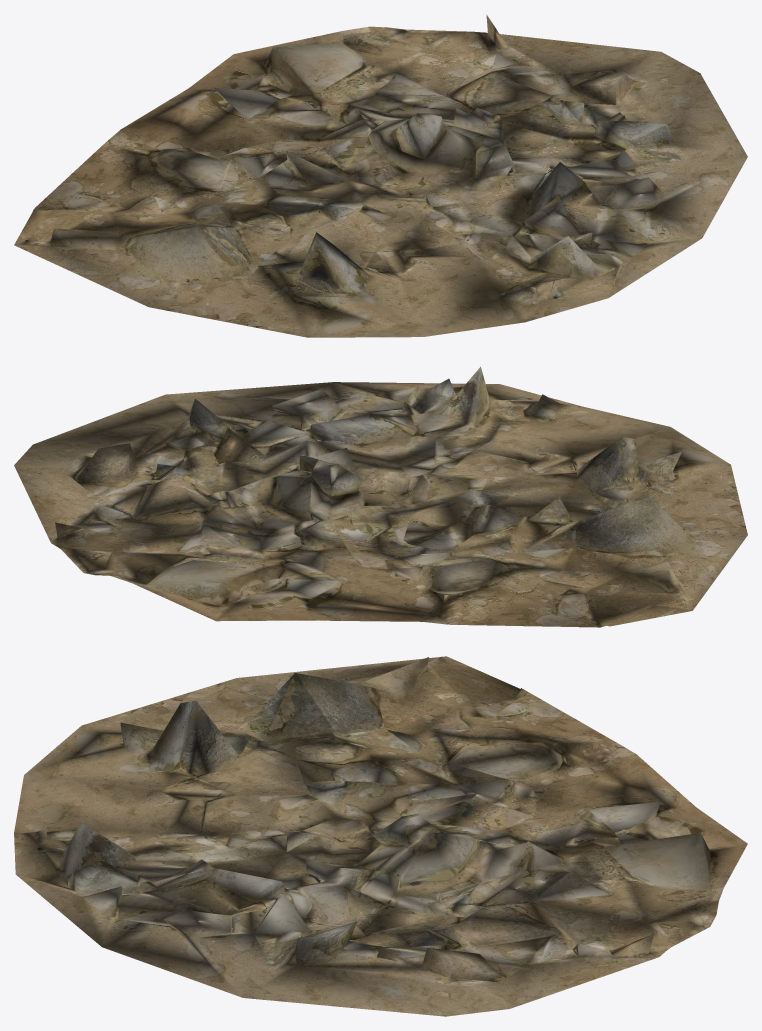
Rendered from sand_rocks_small_01.glb.
The picture shows the model from 3 angles, top to bottom: view 1: azimuth 30°, elevation 25°; view 2: azimuth 150°, elevation 25°; view 3: azimuth 270°, elevation 25°; orthographic projection. The views are drawn at different scales.
Parts seen in each view (by area): view 1: sand_rocks_small_01_LOD0; view 2: sand_rocks_small_01_LOD0; view 3: sand_rocks_small_01_LOD0.
Part boxes in pixels (<box>): sand_rocks_small_01_LOD0: <box>14,14,747,337</box>; sand_rocks_small_01_LOD0: <box>14,366,747,627</box>; sand_rocks_small_01_LOD0: <box>14,656,747,1016</box>.
Size of the model in its own units: 4.54 by 0.3796 by 3.85.
1 material, 1 textured.
